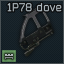NPZ 1P78-1 dovetail mount: (0, 0, 64, 64)
